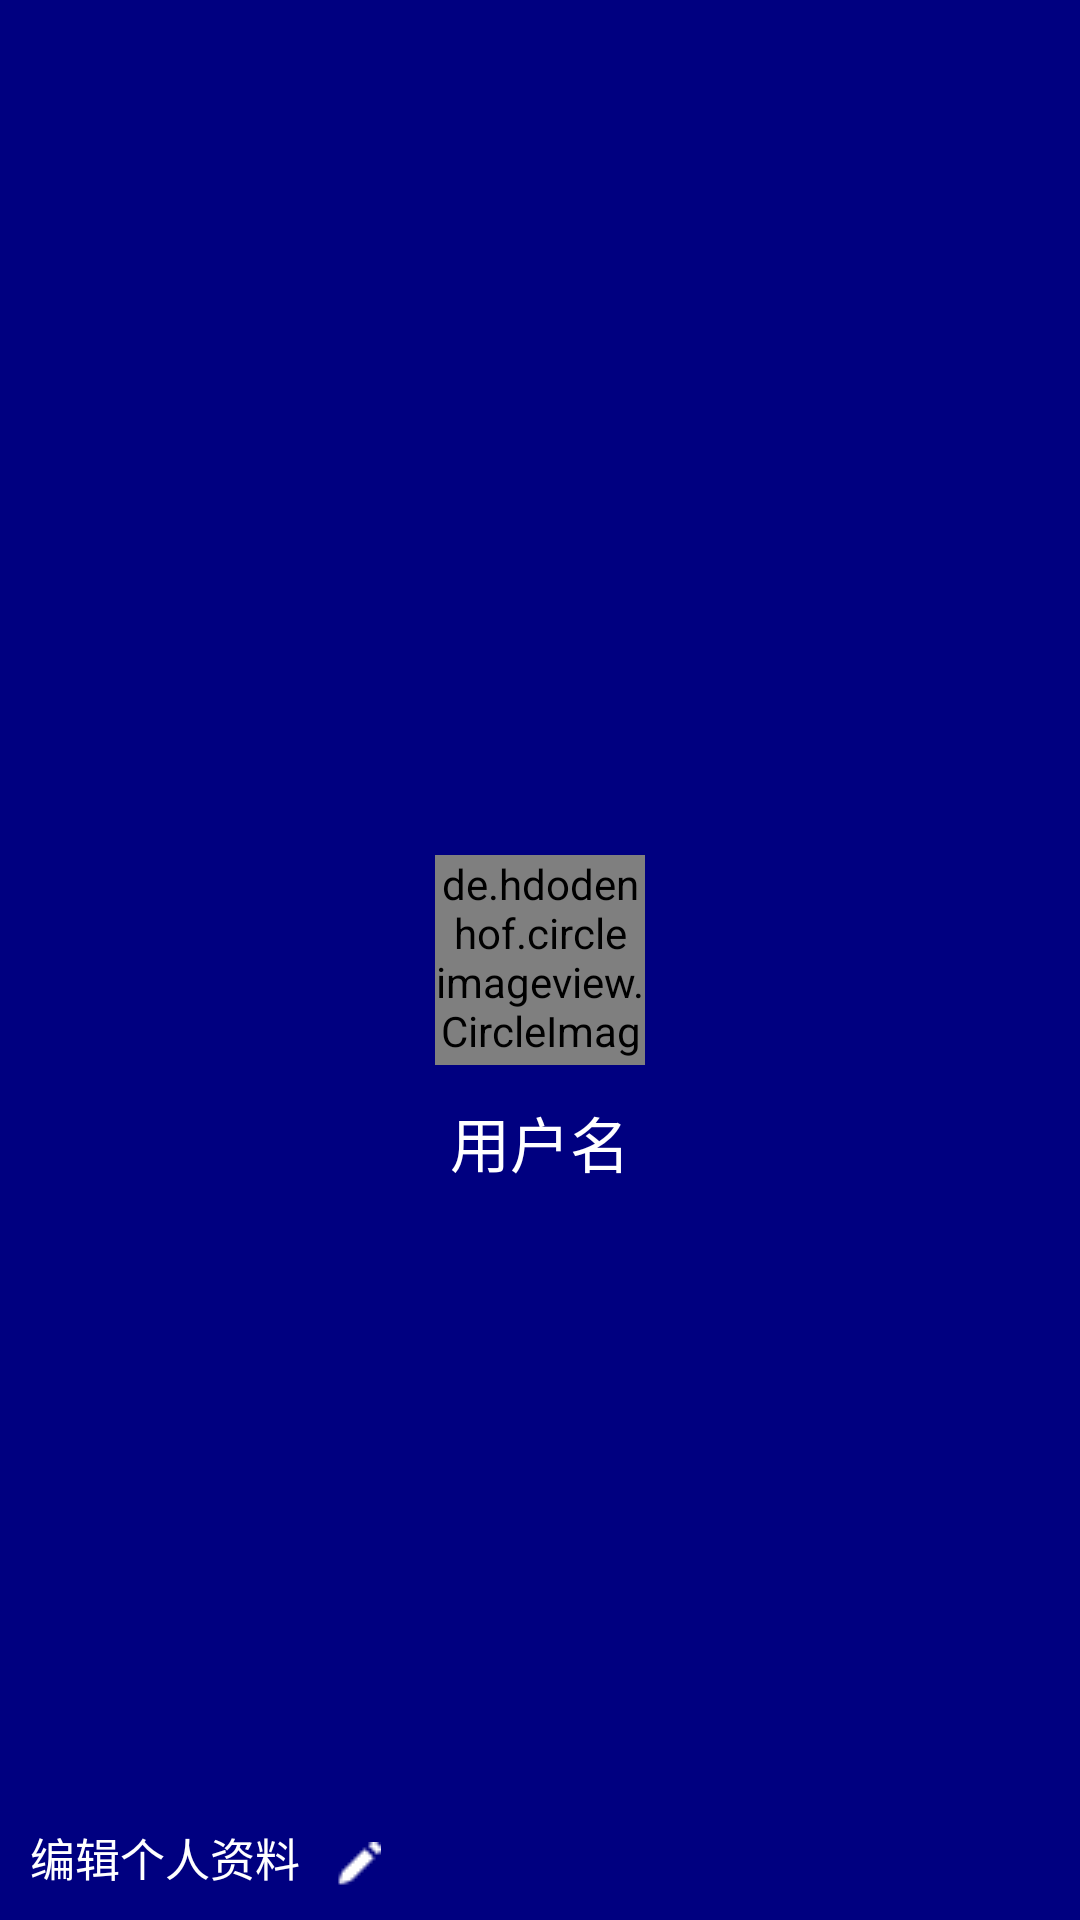

Icons on this 1080px x 1920px Android screen, each with its box as (x1, y1, x2, y2):
rewrite: (338, 1842, 381, 1885)
